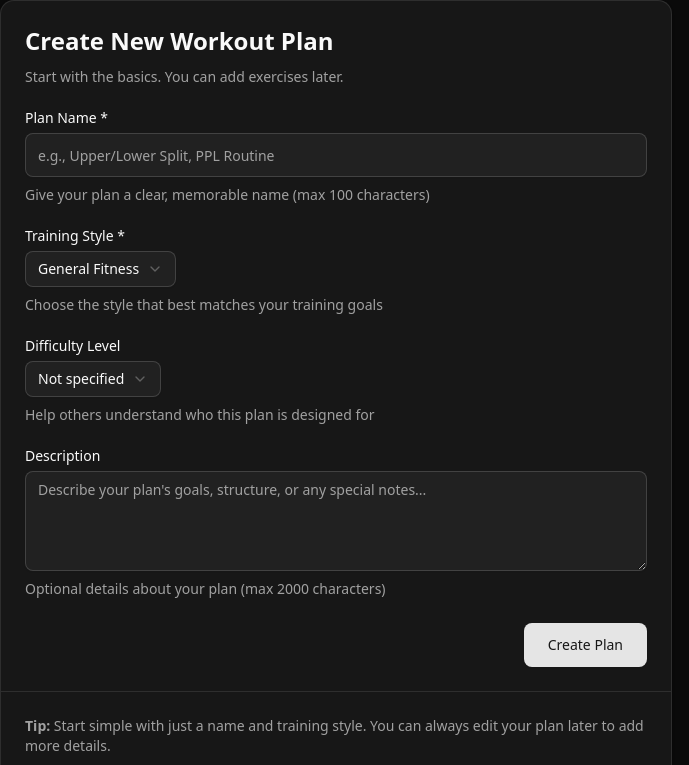
it: PlanForm › validation › should show validation error for empty name
The image size is (689, 765).
// Try to submit without filling required fields
Click the button "Create Plan".
click(585, 645)  # box [524, 623, 647, 667]
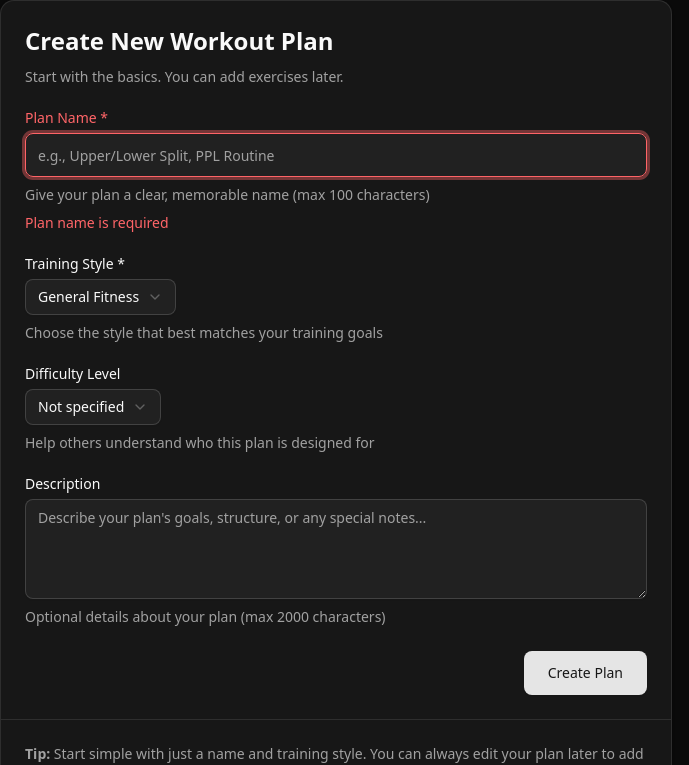
Now the text "Plan name is required" is shown, box [25, 213, 169, 232]
